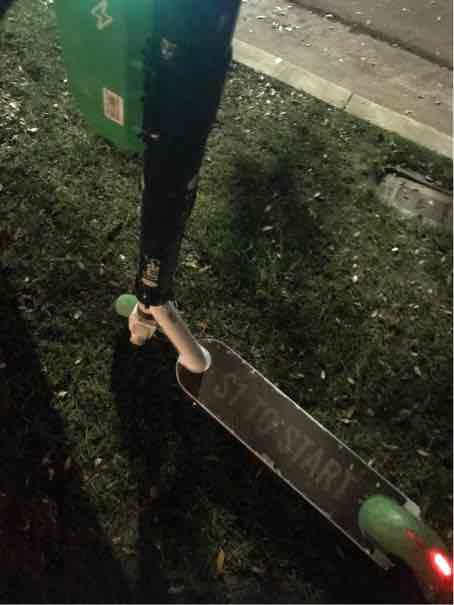scooter: (19, 8, 446, 605)
